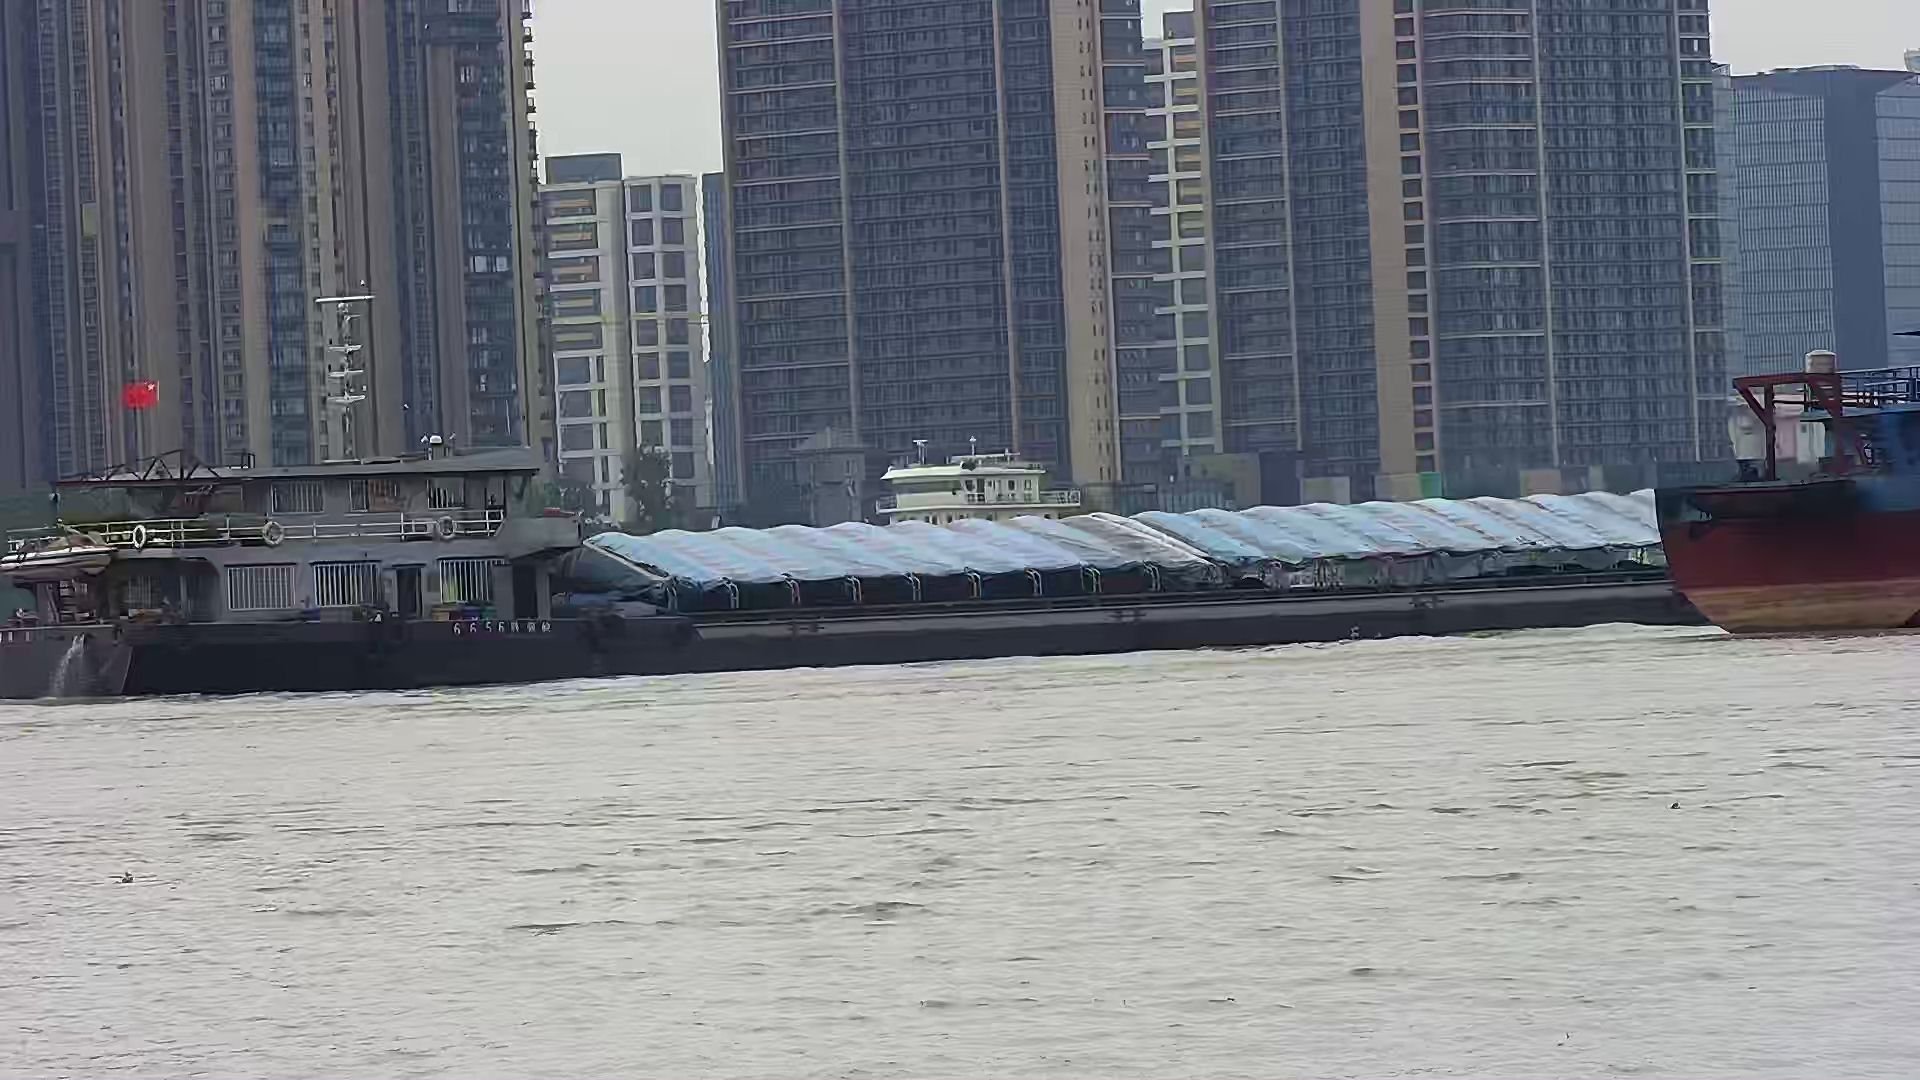ship: (1, 390, 1693, 698), (1644, 302, 1920, 674)
